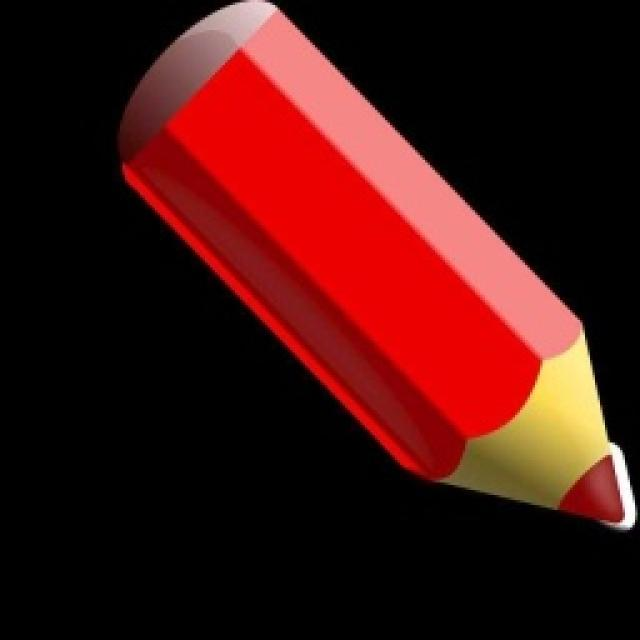pencil: (112, 0, 638, 535)
